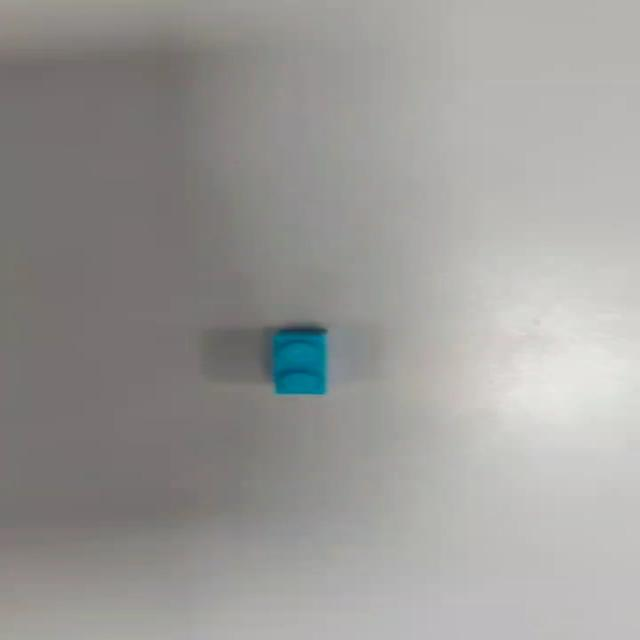C2x1x1: (269, 326, 328, 396)
